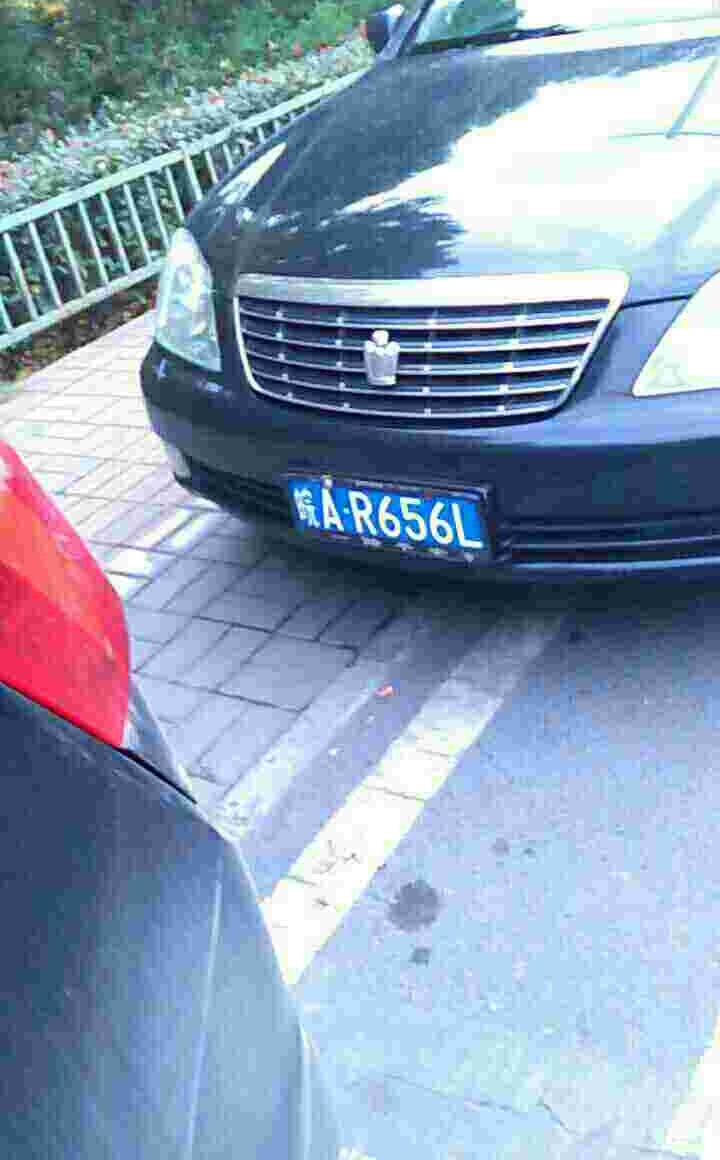license_plate: (295, 479, 486, 551)
